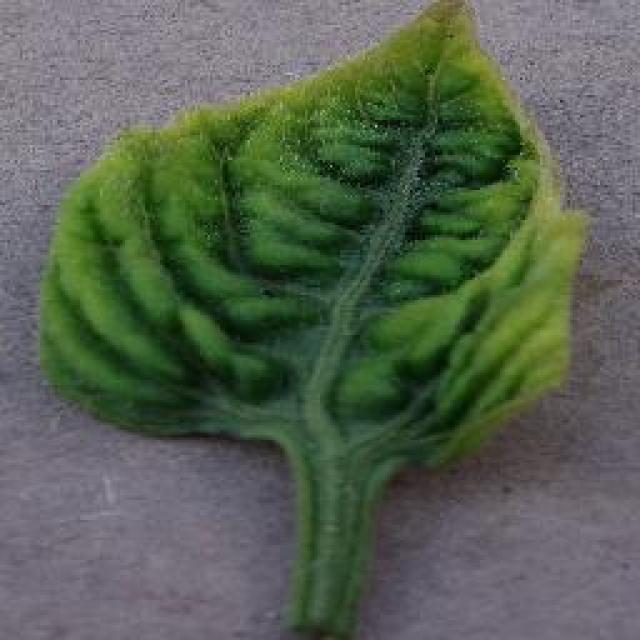Tomato yellow virus leaf: (34, 0, 592, 472)
